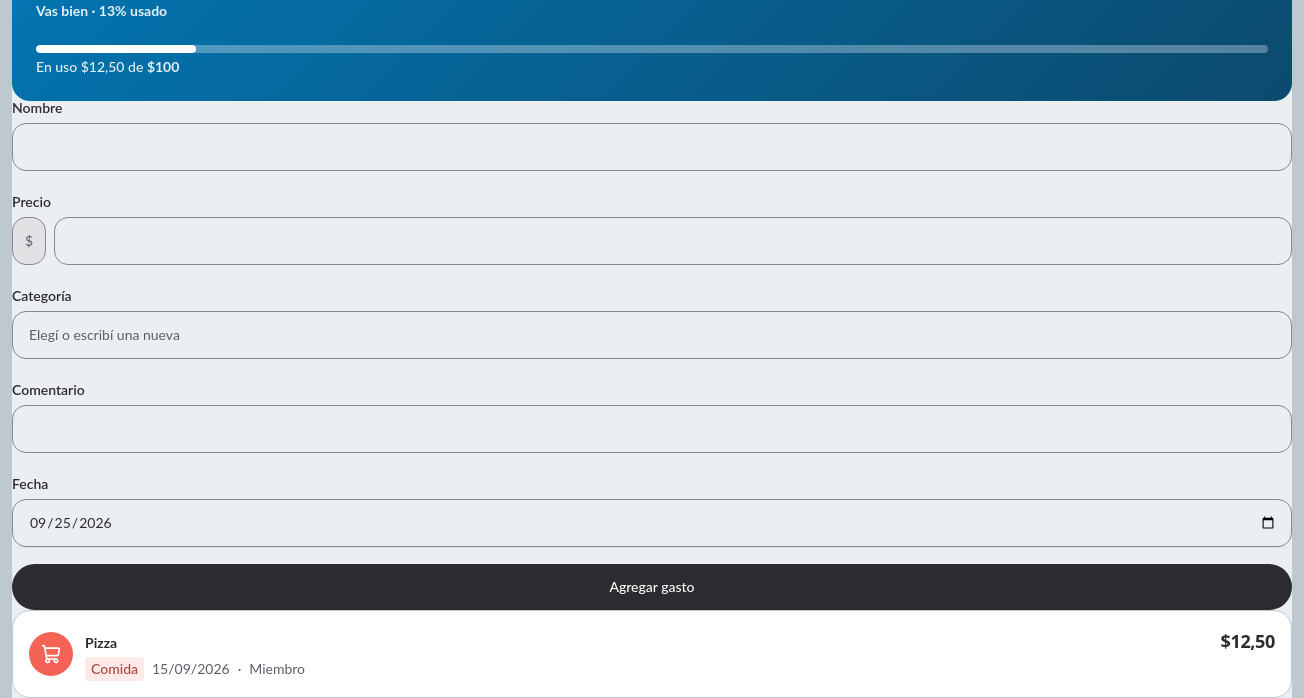
Test: EditExpenseFlow › opens a pre-filled form when a list row is tapped
(page scrolled)
What coordinates should you click on to do the following:
click the button with aria-label "Editar Pizza"
I would click on:
 (51, 654)
Its box is [12, 610, 1292, 697].
(page scrolled)
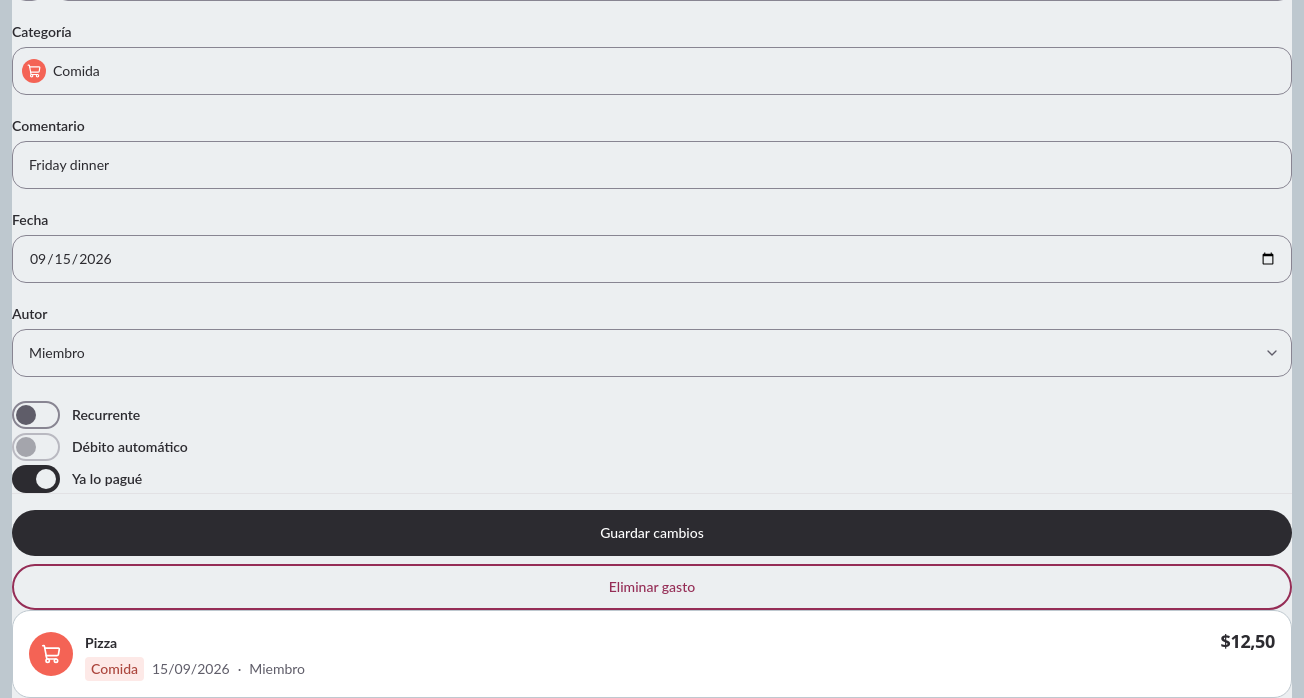
expect the dropdown labelled "Categoría" holds "Comida": met, box [12, 46, 1292, 94]
expect the field labelled "Comentario" holds "Friday dinner": met, box [12, 140, 1292, 188]
expect the button "Guardar cambios" is shown: met, box [12, 510, 1292, 556]
